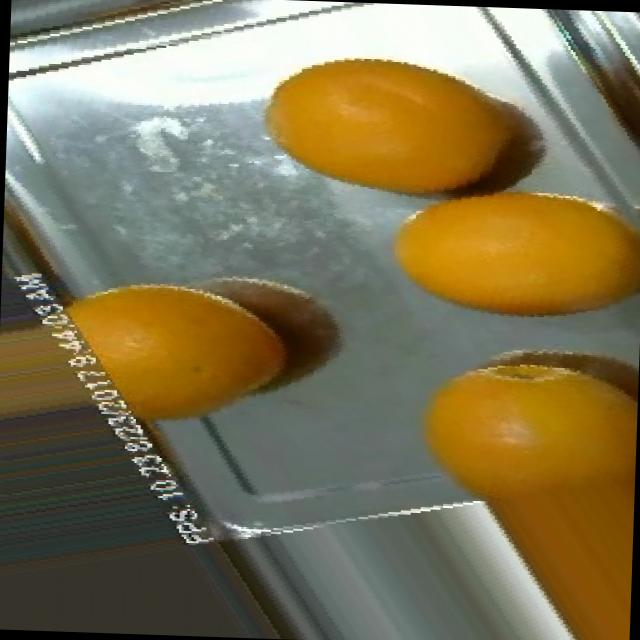Fruit: (88, 248, 322, 450)
